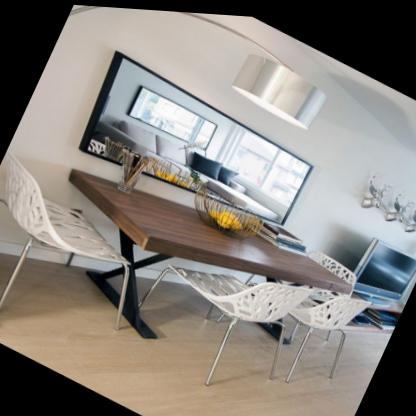Dining Table: (0, 97, 411, 416)
Wooden floor: (0, 252, 390, 416)
